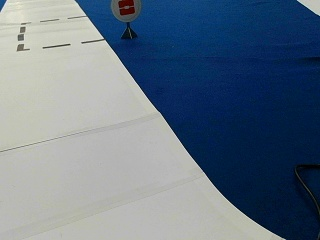company: (111, 0, 141, 22)
